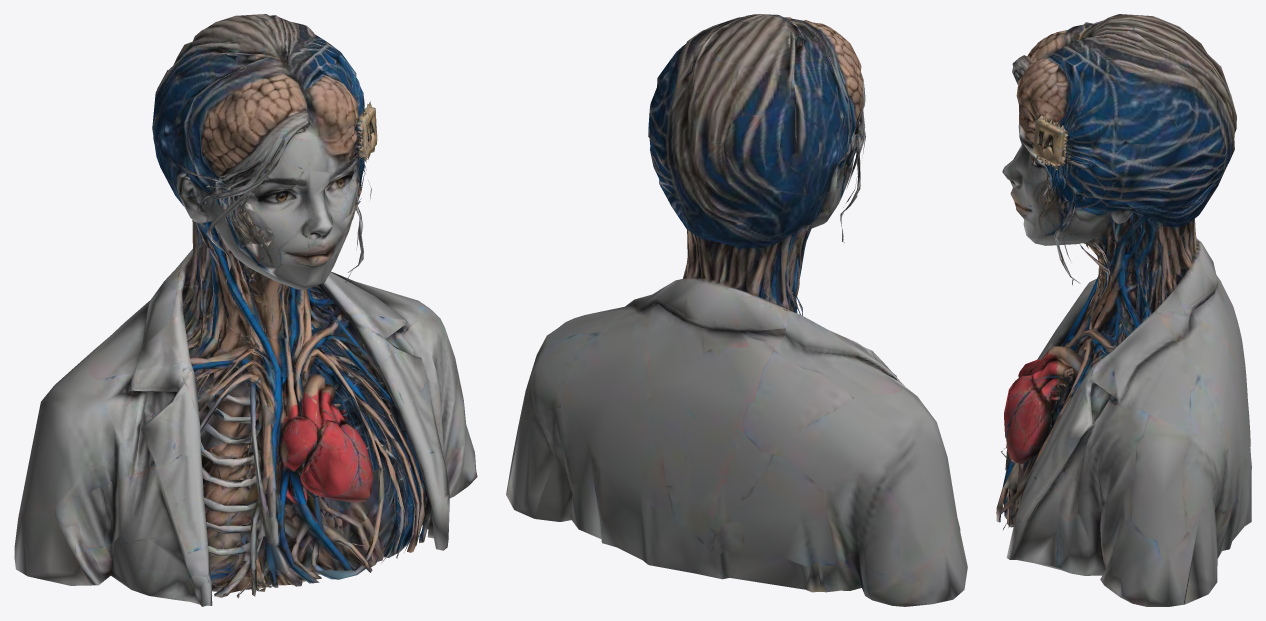
Rendered from tutor-ia.glb.
3 views of the same model, side by side, from view 1: azimuth 30°, elevation 25°; view 2: azimuth 150°, elevation 25°; view 3: azimuth 270°, elevation 25° (orthographic). The views are drawn at different scales.
Parts seen in each view (by area): view 1: SyntheticAnatomy; view 2: SyntheticAnatomy; view 3: SyntheticAnatomy.
Part boxes in pixels (<box>): SyntheticAnatomy: <box>14,14,477,606</box>; SyntheticAnatomy: <box>506,14,967,606</box>; SyntheticAnatomy: <box>996,14,1251,606</box>.
Size of the model in its own units: 1.74 by 1.9 by 0.9139.
1 material, 1 textured.
